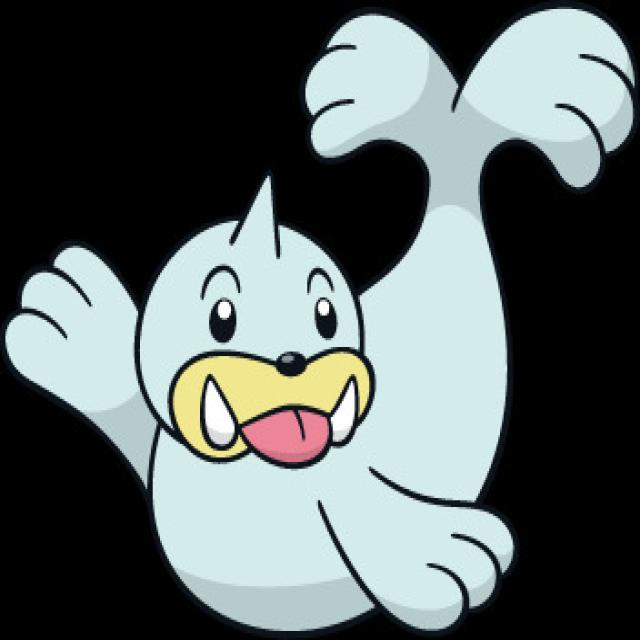Seel: (126, 103, 606, 640)
